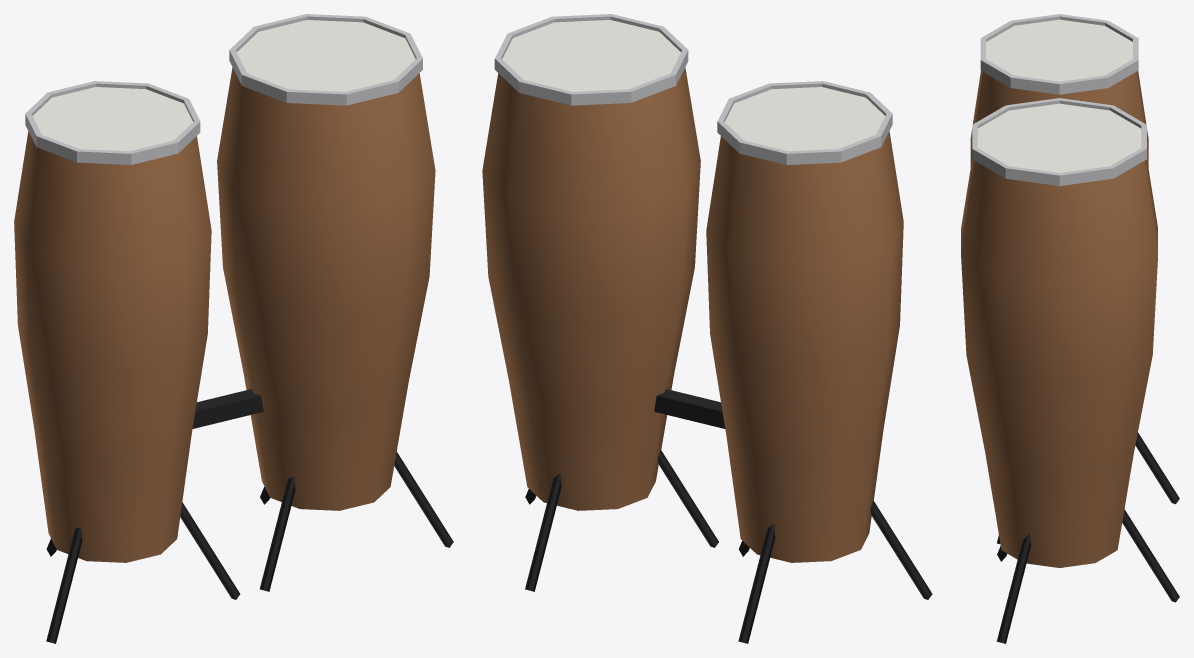
File: congas-low.glb
The picture shows the model from 3 angles, left to right: view 1: azimuth 30°, elevation 25°; view 2: azimuth 150°, elevation 25°; view 3: azimuth 270°, elevation 25°; orthographic projection. The views are drawn at different scales.
Parts seen in each view (by area): view 1: shell-wood, head, metal, frame; view 2: shell-wood, head, metal, frame; view 3: shell-wood, head, metal, frame.
Part boxes in pixels (box(x1,y1,x2,y2)): shell-wood: box(14, 67, 435, 562); head: box(32, 20, 415, 151); metal: box(25, 14, 422, 164); frame: box(46, 389, 453, 643); shell-wood: box(482, 67, 903, 562); head: box(502, 20, 885, 151); metal: box(494, 14, 892, 164); frame: box(525, 389, 932, 643); shell-wood: box(961, 71, 1157, 567); head: box(977, 19, 1141, 172); metal: box(972, 14, 1146, 185); frame: box(996, 432, 1179, 643).
Size of the model in its own units: 0.7597 by 0.8841 by 0.3768.
